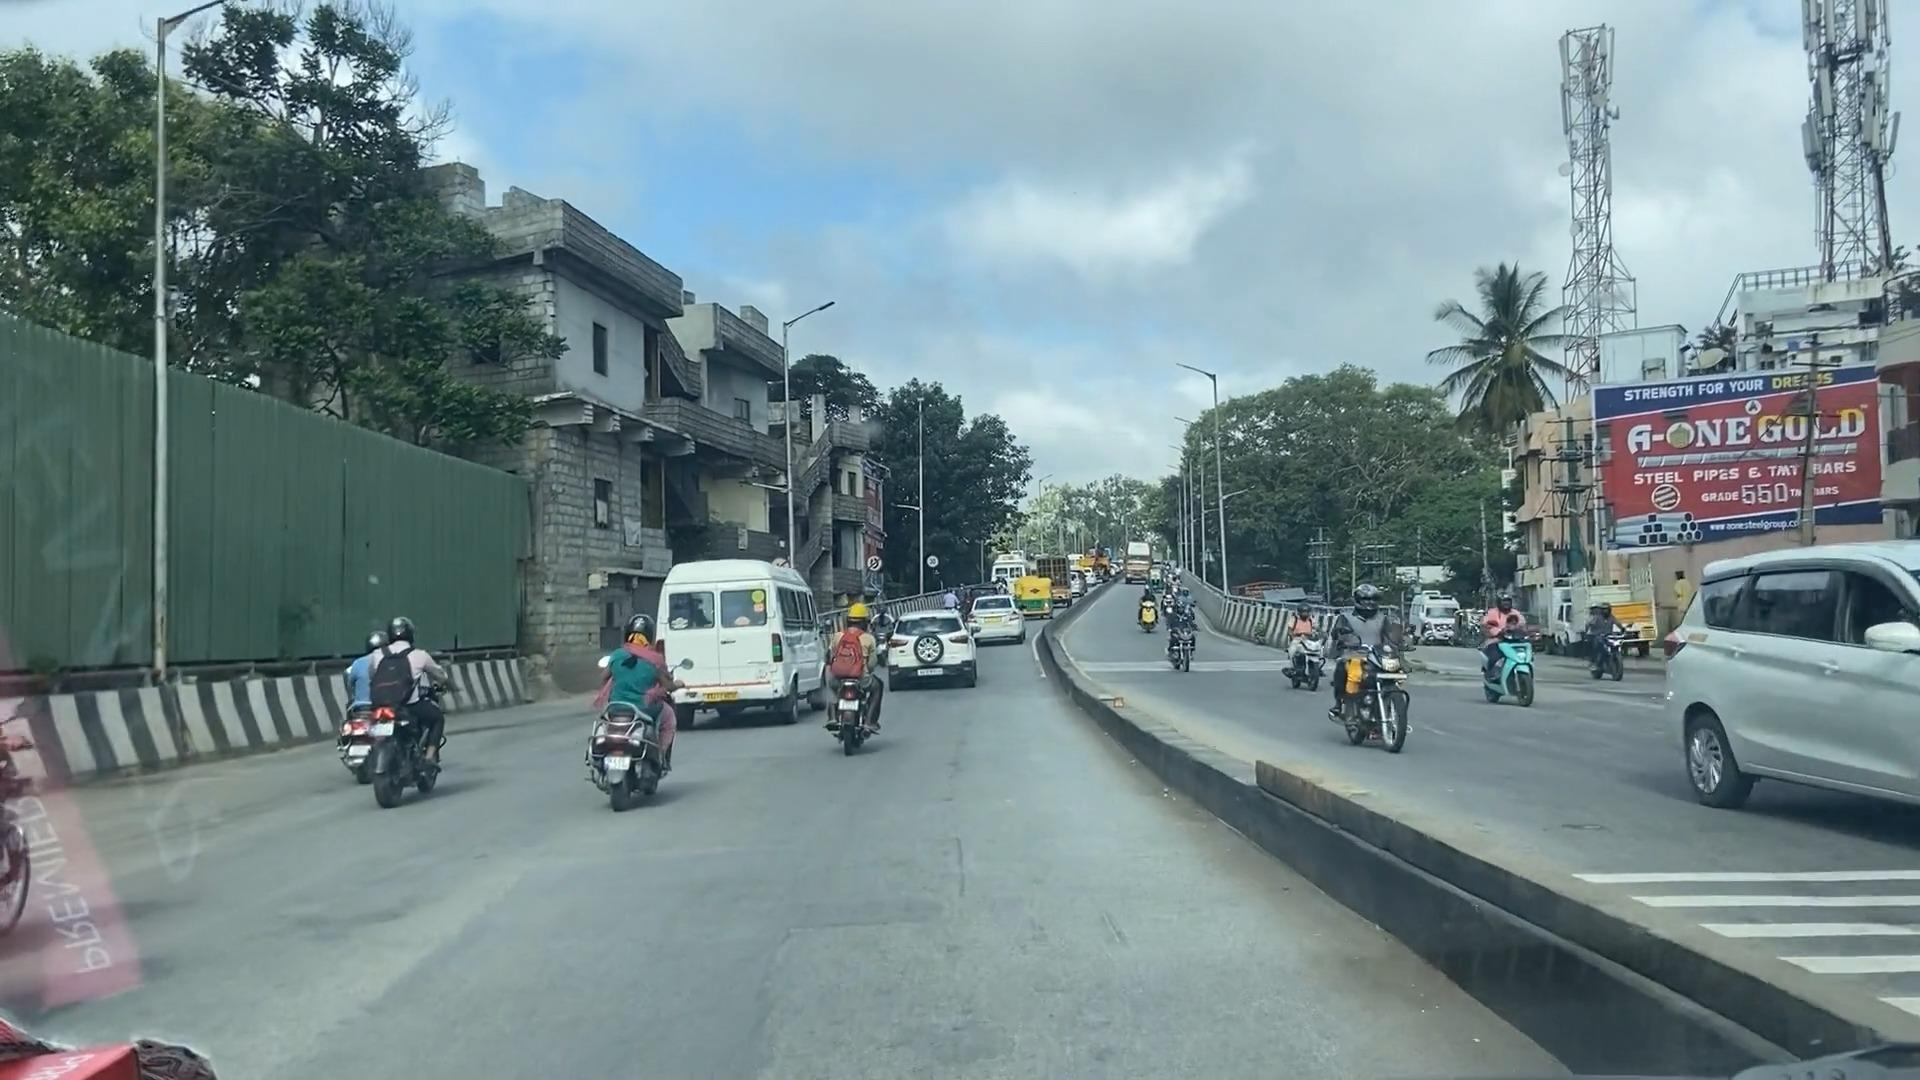HMV: (661, 562, 815, 712)
LMV: (347, 618, 443, 796), (582, 618, 662, 785), (827, 607, 887, 749), (901, 604, 980, 687)
UnsurfacedRoad: (688, 865, 961, 1056)
